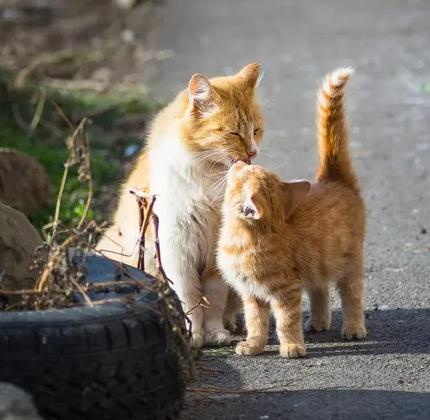cat: (93, 63, 266, 347), (213, 68, 369, 359)
